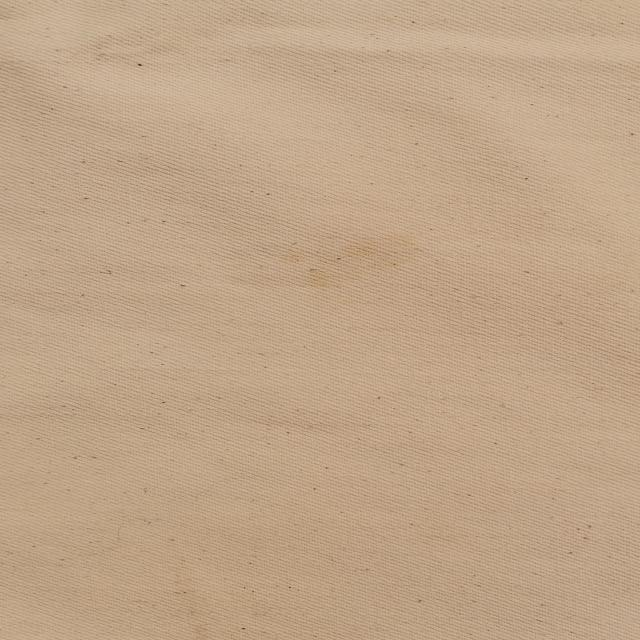taaaches: (282, 225, 428, 289)
